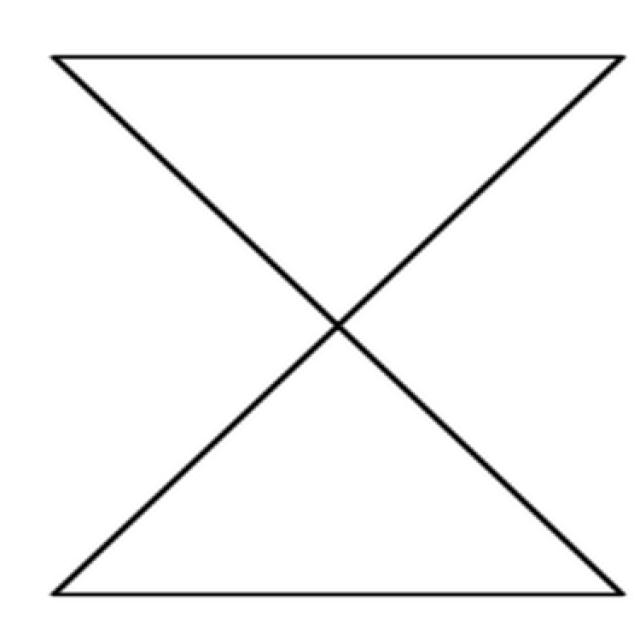Gate valve: (57, 325, 624, 597), (56, 58, 622, 325)
